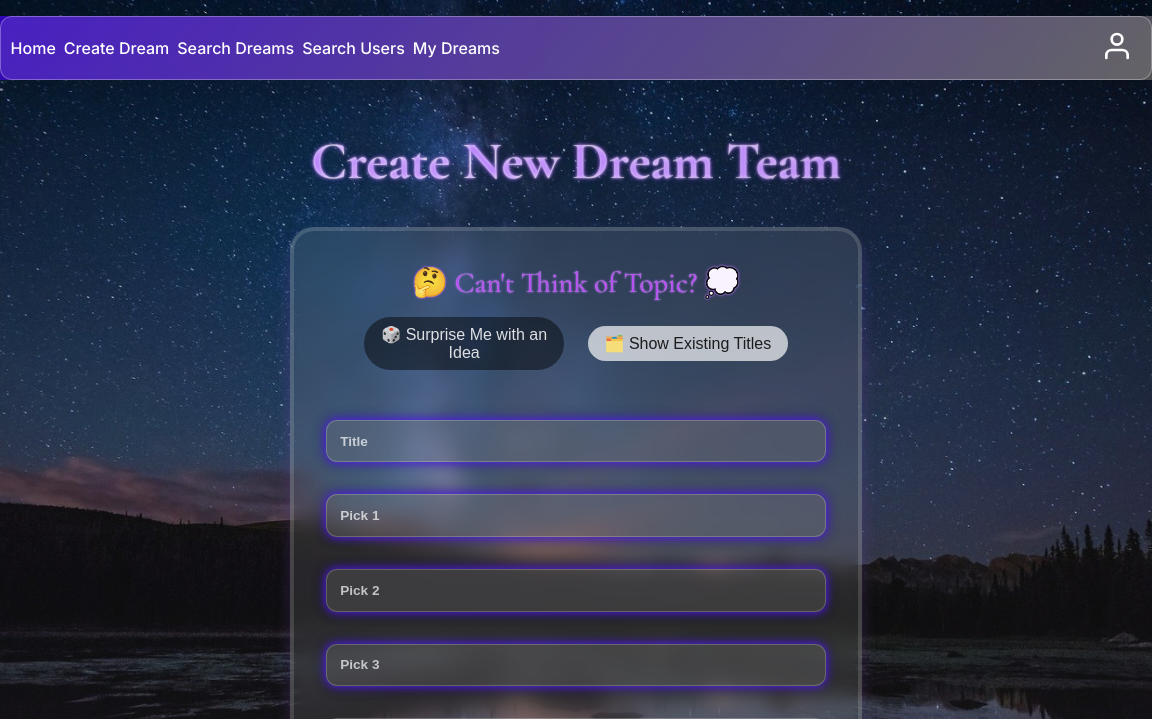
Scenario: CreateDream › displays previously created dream team titles alphabetically
Click the button "🗂️ Show Existing Titles". click: [688, 344]
box: [588,326,788,361]
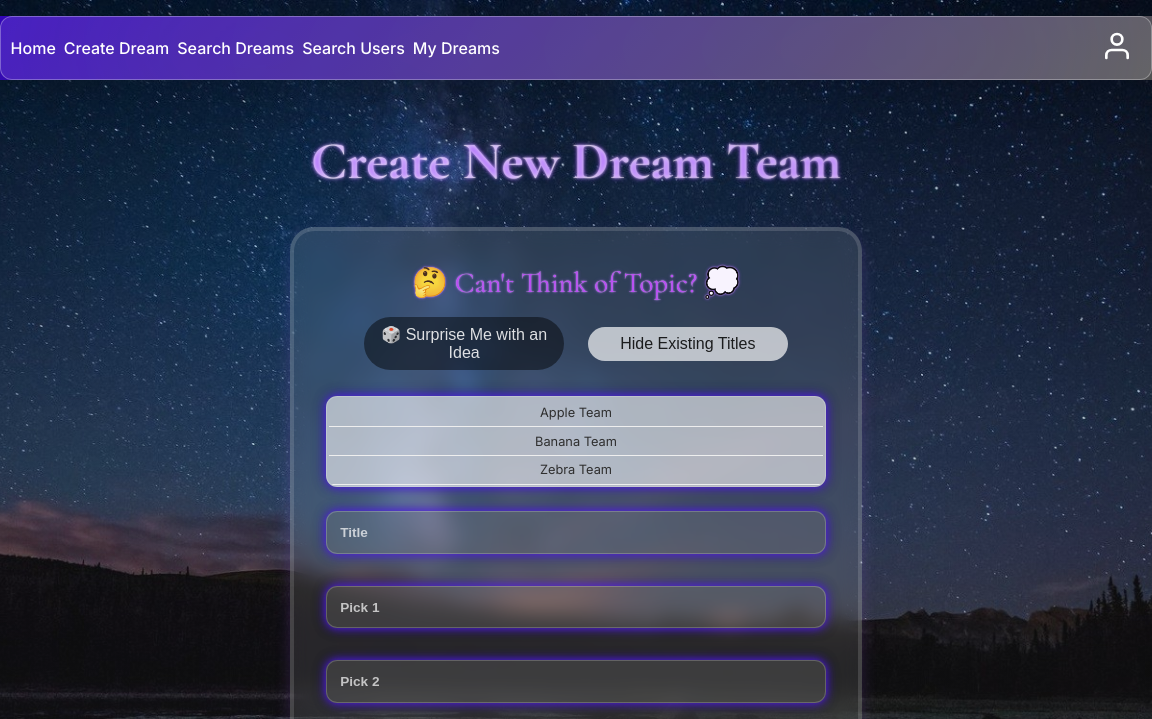
Expected: the list items read "Apple Team", "Banana Team", "Zebra Team", in this order, [329,398,823,427]; [329,427,823,456]; [329,456,823,485]
